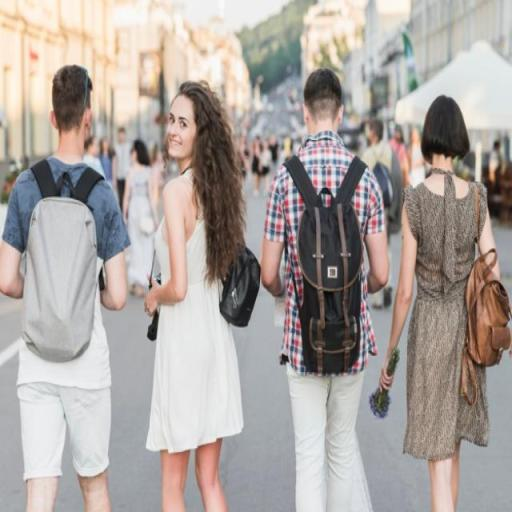person: (370, 93, 512, 512), (262, 72, 391, 512), (3, 68, 129, 512), (148, 84, 267, 512), (121, 138, 161, 301), (364, 119, 396, 316), (260, 141, 278, 198), (254, 135, 264, 199)
